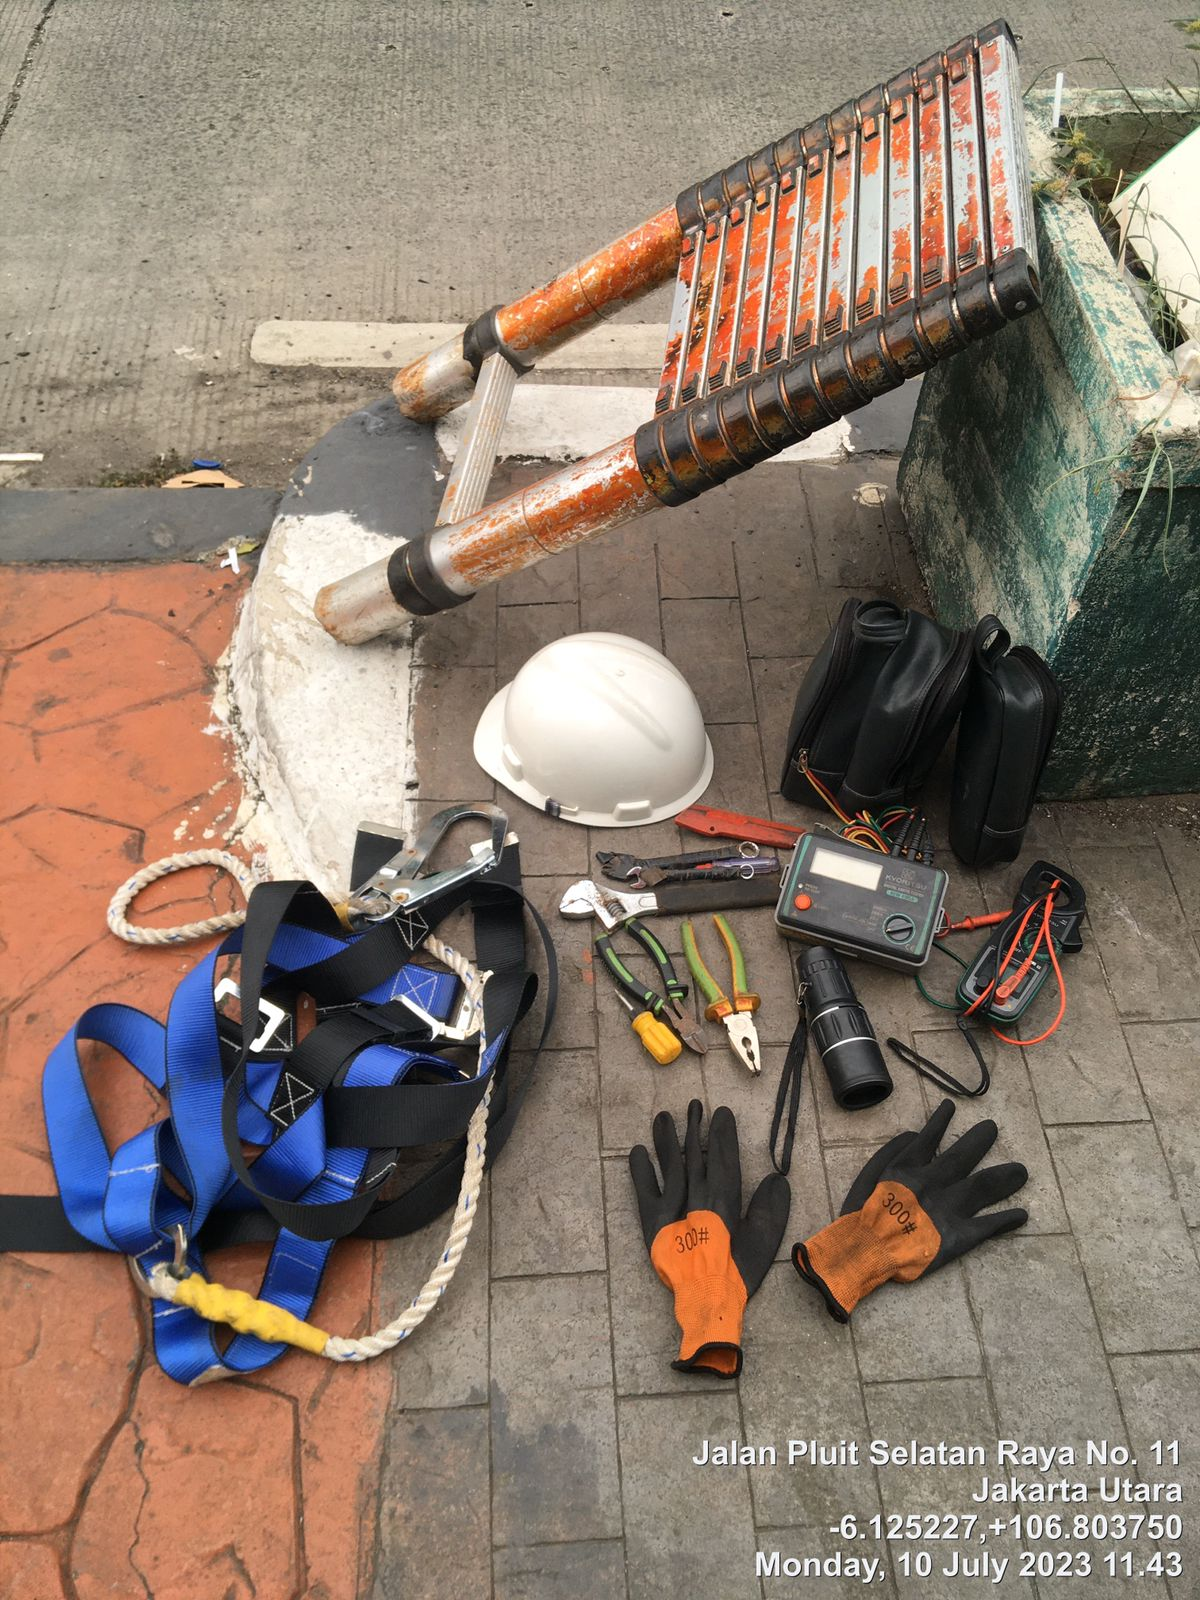HELM: (511, 634, 701, 814)
SARUNG_TANGAN: (649, 1099, 753, 1380)
TAMBANG_SLING: (189, 901, 479, 1306)
